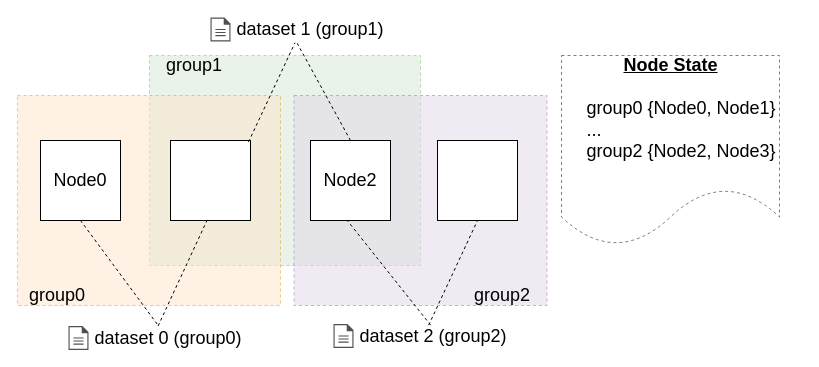
Some shapes in this 819 by 367 pixel diagram are drawn without their labels. The centre of each missing label's shape, as x and y in pixels:
"Node1" belongs at point 210,180.
"Node3" belongs at point 477,180.
